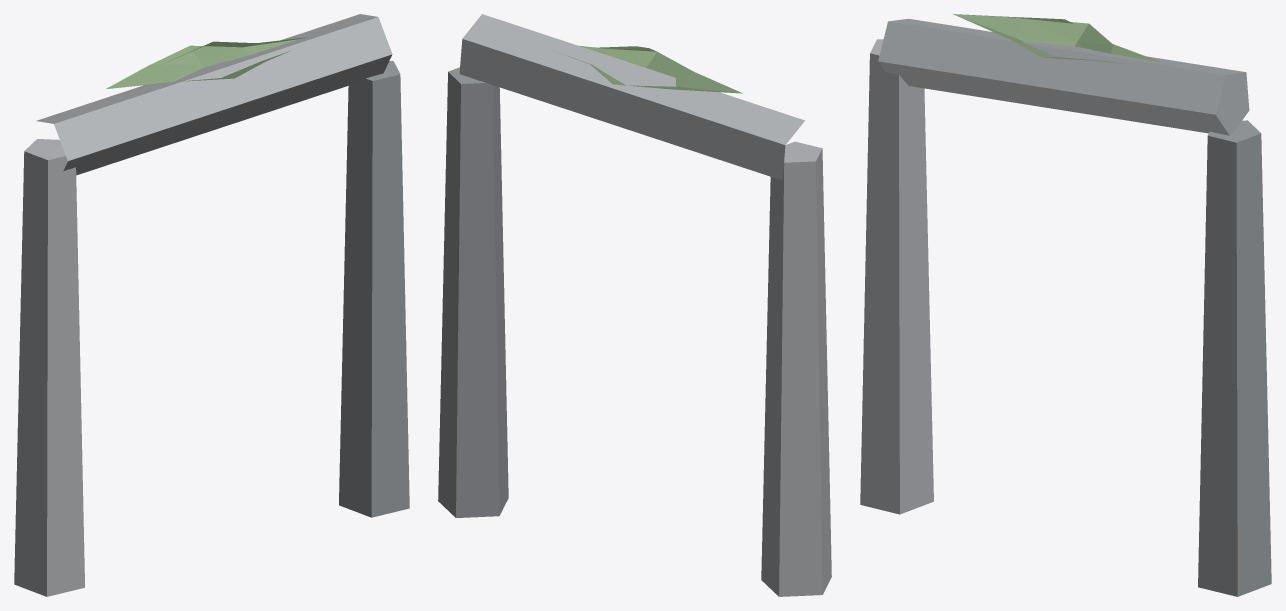
Rendered from arch_rock_v11.glb.
3 renders of one model, left to right at view 1: azimuth 30°, elevation 25°; view 2: azimuth 150°, elevation 25°; view 3: azimuth 330°, elevation 25°, orthographic. The views are drawn at different scales.
Visible parts, largest first — view 1: lod0; view 2: lod0; view 3: lod0.
Boxes of the visible parts, bbox=[...] form: lod0: bbox=[14, 14, 409, 596]; lod0: bbox=[438, 14, 831, 596]; lod0: bbox=[860, 14, 1271, 596].
Size of what is drawn, in the model's own units: 2.62 by 3.24 by 0.5267.
